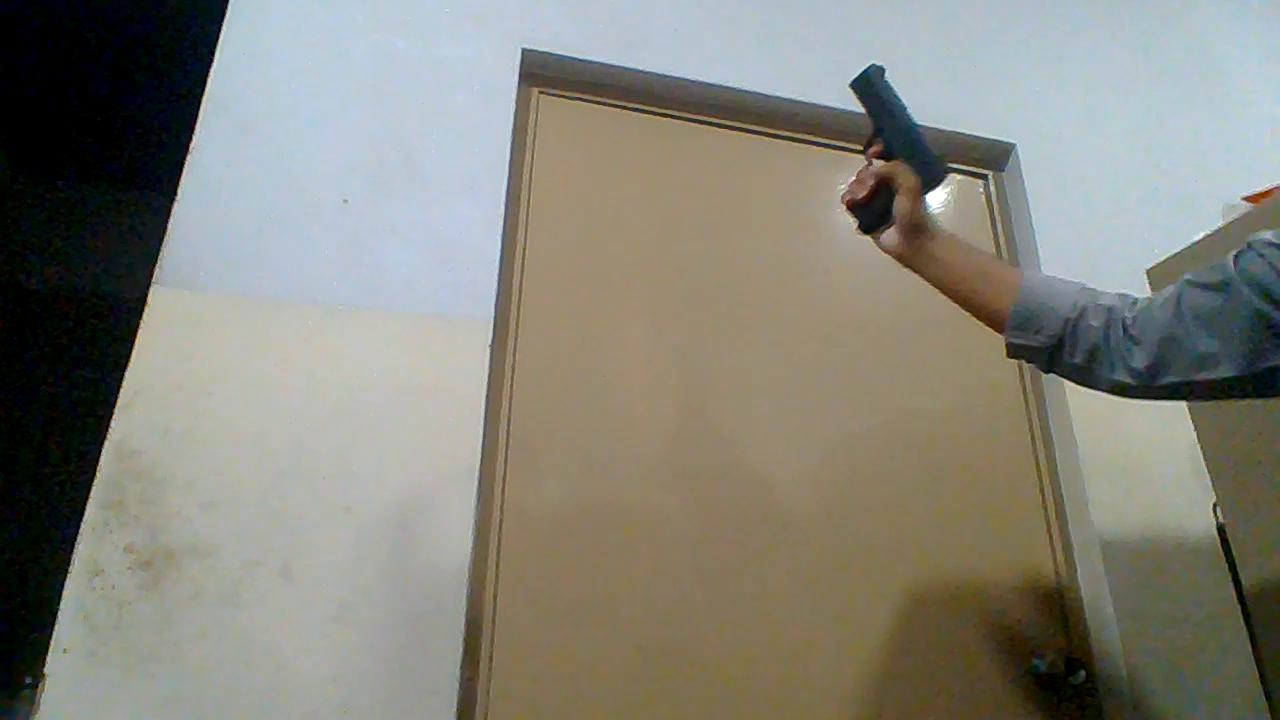weapon: (846, 63, 953, 235)
